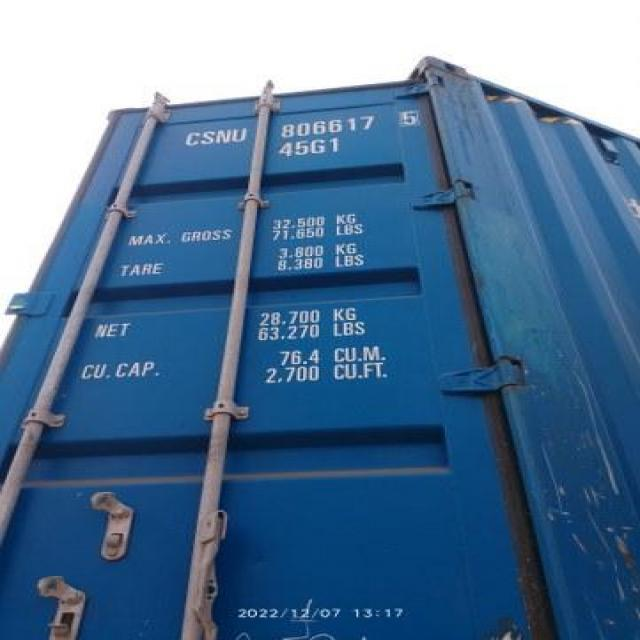container_number_h: (116, 86, 479, 184)
